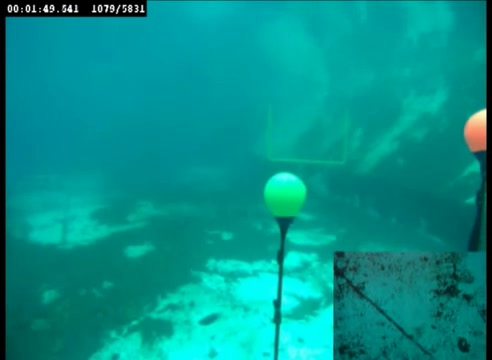buoy_green: (264, 170, 307, 229)
